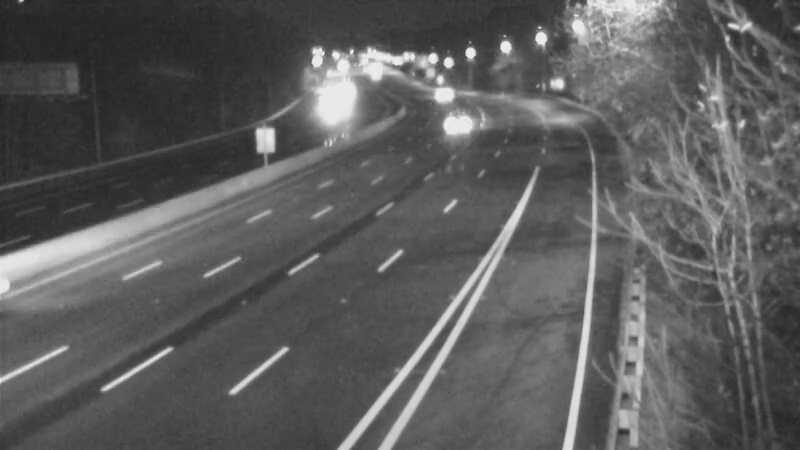vehicle: (413, 68, 463, 118), (420, 97, 470, 147)
